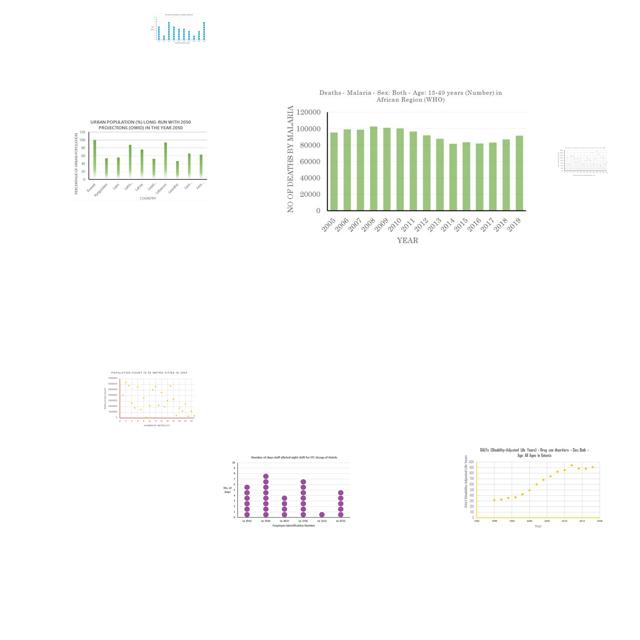Graph: (281, 86, 530, 249), (461, 445, 605, 531), (73, 118, 210, 201), (219, 454, 353, 530), (103, 370, 196, 429), (150, 13, 207, 44), (557, 146, 608, 177)
